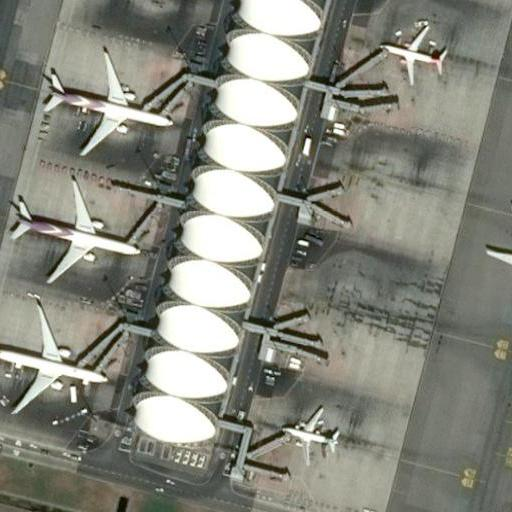Aircraft: (35, 47, 169, 157), (5, 175, 142, 282), (0, 297, 112, 414), (379, 23, 448, 87), (280, 400, 340, 465), (482, 190, 512, 317)
